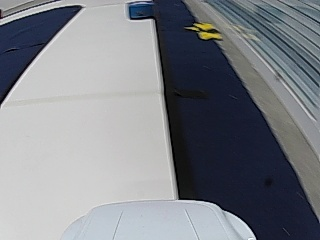prop: (128, 1, 154, 21)
